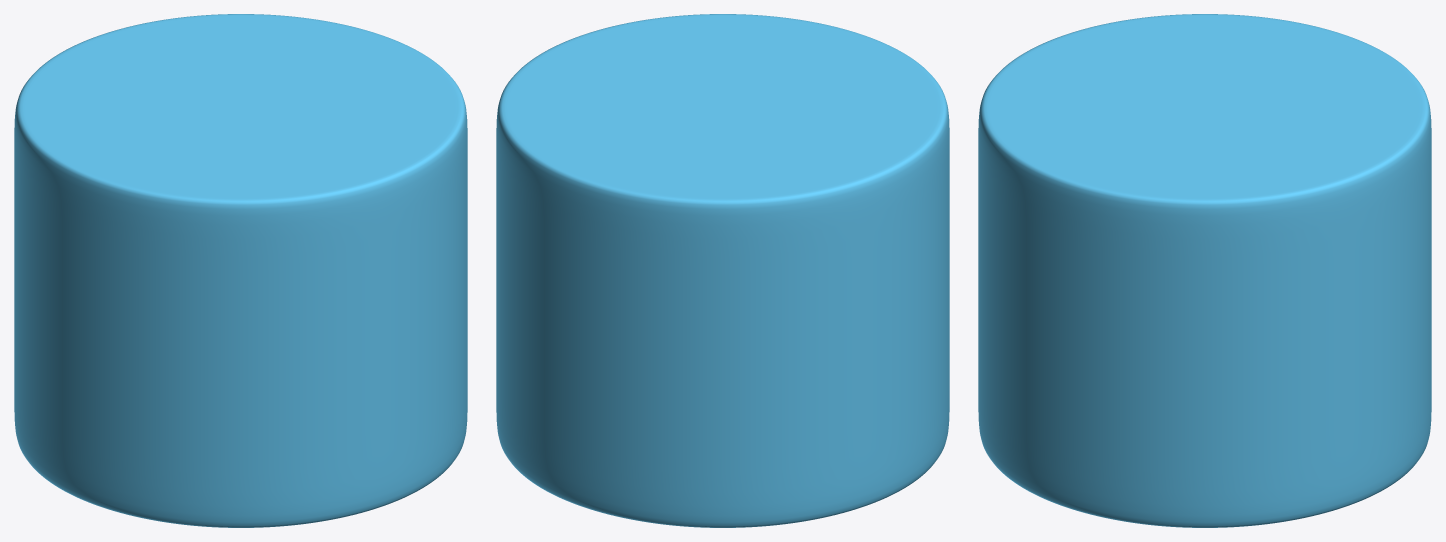
Rendered from Cake_Layer_1_LightBlue.glb.
3 renders of one model, left to right at view 1: azimuth 30°, elevation 25°; view 2: azimuth 150°, elevation 25°; view 3: azimuth 270°, elevation 25°, orthographic.
Parts seen in each view (by area): view 1: Circle; view 2: Circle; view 3: Circle.
Part boxes in pixels (x1=…): Circle: x1=14, y1=14, x2=467, y2=527; Circle: x1=496, y1=14, x2=949, y2=527; Circle: x1=978, y1=14, x2=1431, y2=527.
Size of the model in its own units: 0.15 by 0.12 by 0.15.
